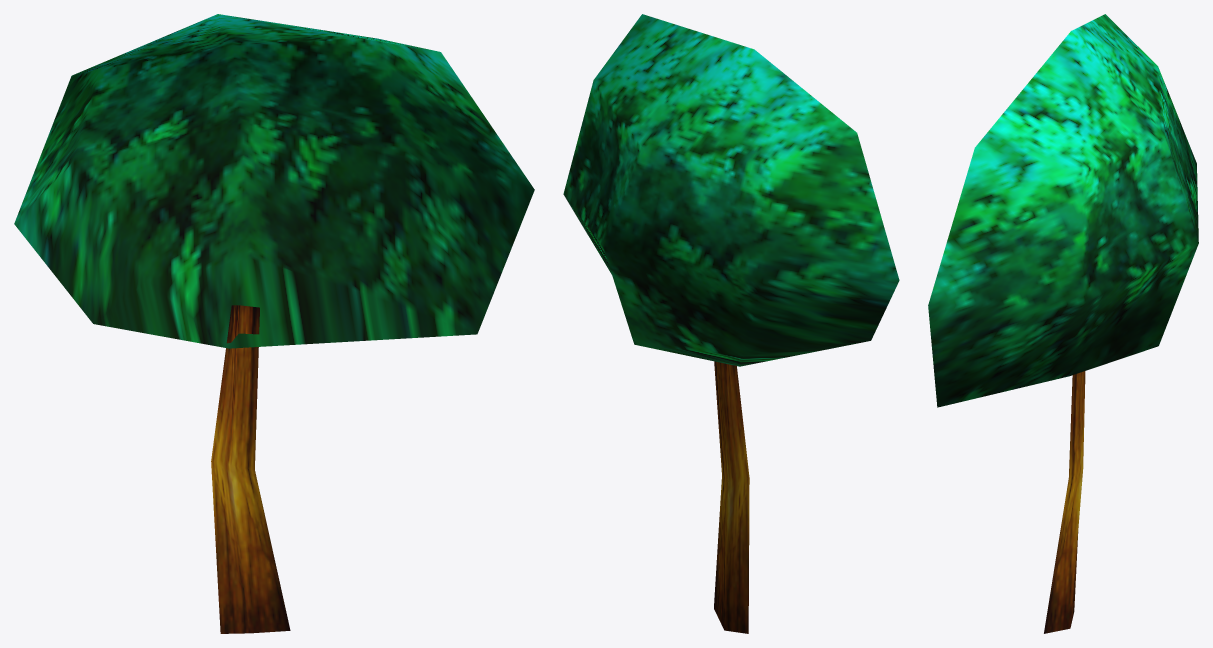
The model's file is tree_03.fbx.
3 renders of one model, left to right at view 1: azimuth 30°, elevation 25°; view 2: azimuth 150°, elevation 25°; view 3: azimuth 270°, elevation 25°, orthographic. The views are drawn at different scales.
Visible parts, largest first — view 1: tree_03; view 2: tree_03; view 3: tree_03.
Boxes of the visible parts, bbox=[...] form: tree_03: bbox=[14, 14, 534, 633]; tree_03: bbox=[563, 14, 899, 633]; tree_03: bbox=[928, 14, 1198, 633].
Size of the model in its own units: 462 by 660 by 278.
